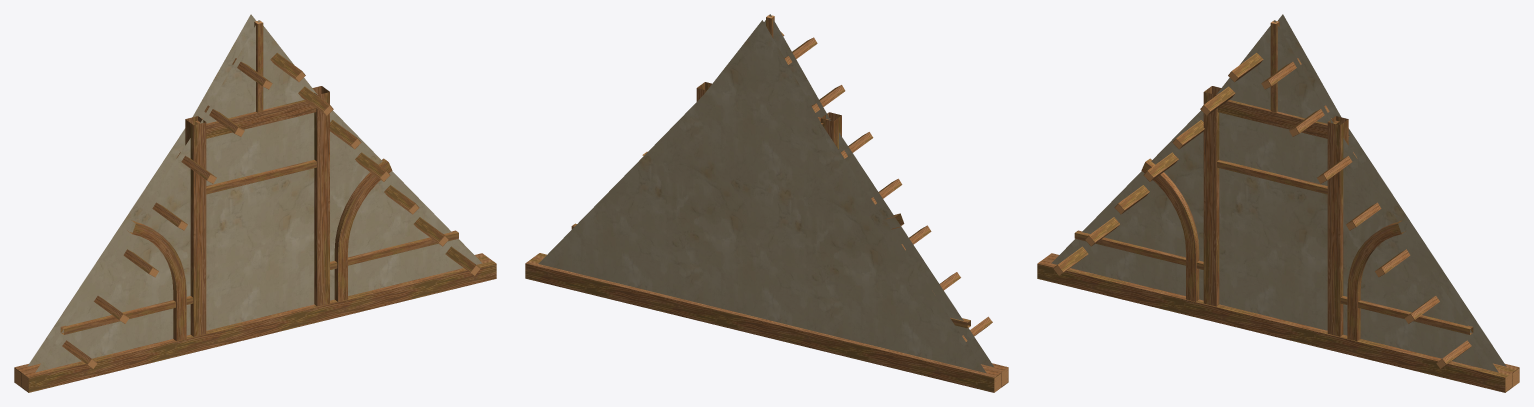
File: roof-qm-rooffrontbrick8.glb
3 views of the same model, side by side, from view 1: azimuth 30°, elevation 25°; view 2: azimuth 150°, elevation 25°; view 3: azimuth 330°, elevation 25° (orthographic).
Parts seen in each view (by area): view 1: Cube_166; view 2: Cube_166; view 3: Cube_166.
Part boxes in pixels (box(x1,y1,x2,y2)): Cube_166: box(14, 14, 496, 392); Cube_166: box(525, 14, 1008, 392); Cube_166: box(1037, 14, 1519, 392).
Bounding box in the file's own units: 8.51 × 5.45 × 1.13.
2 materials, 2 textured.
